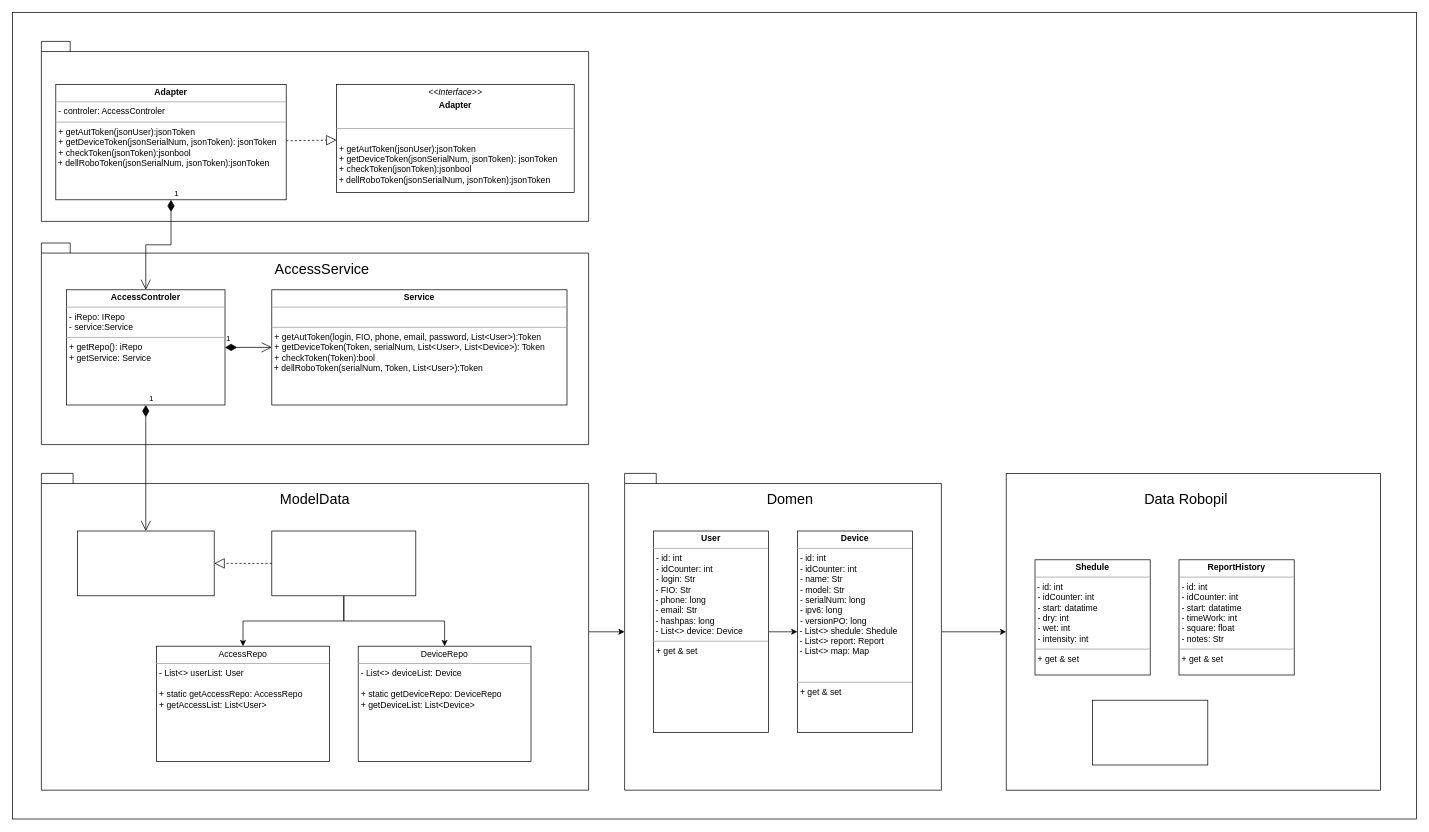
Some shapes in this 1429 by 832 pixel diagram are drawn without their labels. Each missing label, with the centre of its shape:
<<Interface>> IRepo + getAccessRepo():AccessRepo + getDevicRepo():DeviceRepo: [145,563]
Map - coordinates: float: [1150,732]
RepoProvider + getAccessRepo():AccessRepo + getDevicRepo():DeviceRepo: [343,563]
